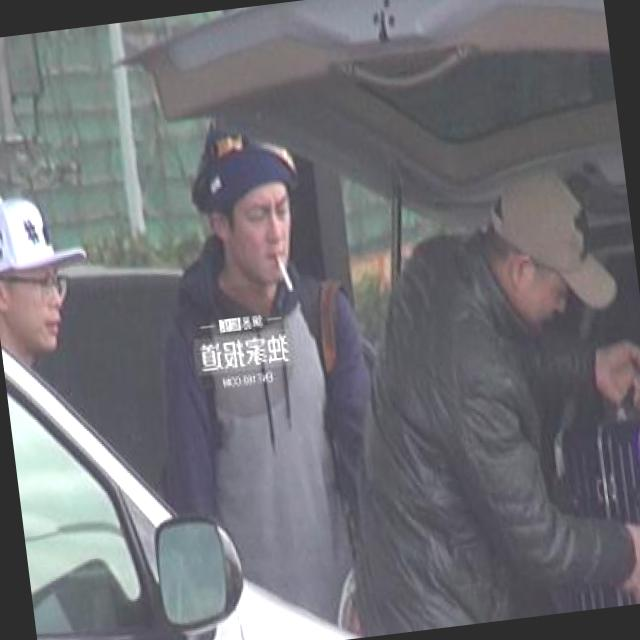smoke: (276, 248, 297, 292)
